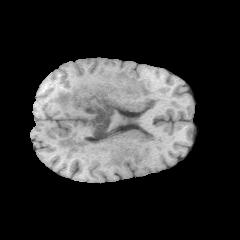glioma: (49, 68, 180, 169)
